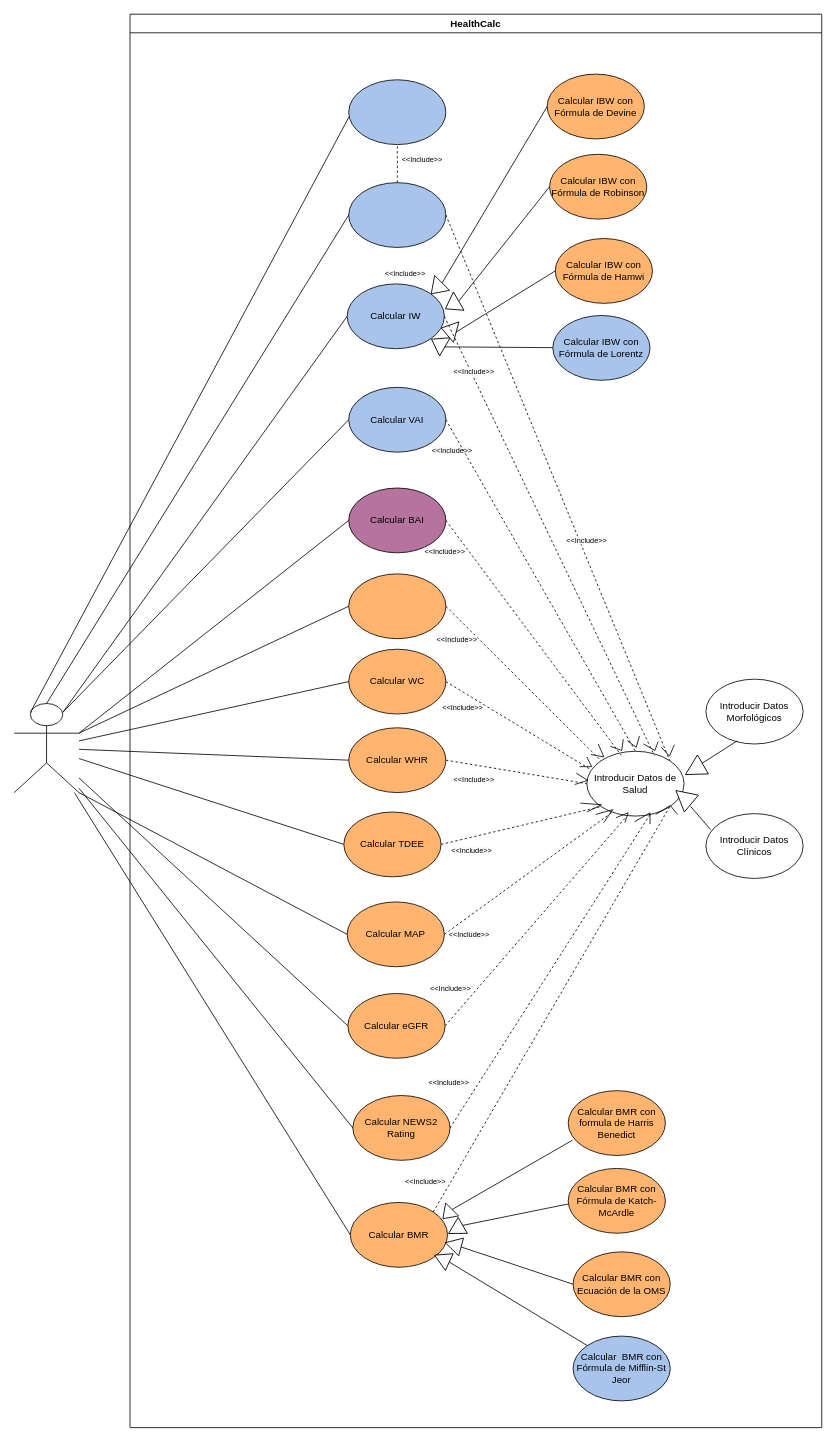
Some shapes in this 836 by 1442 pixel diagram are drawn without their labels. The shapes that lost their labels are listed below. From the top down, each one's centre as x and y in pixels, then its label:
point (397, 112): Clasificar BMI
point (397, 214): Calcular BMI
point (397, 606): Calcular BSA
point (46, 748): USUARIO
